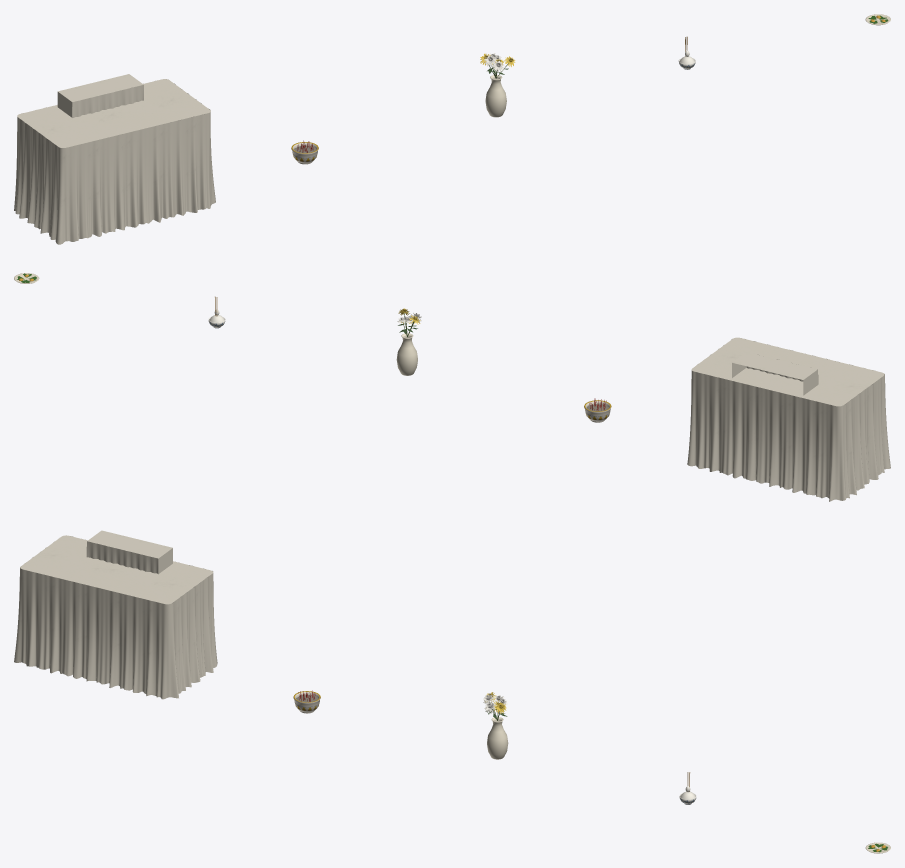
File: BanTho_HQ.glb
The picture shows the model from 3 angles, top to bottom: view 1: azimuth 30°, elevation 25°; view 2: azimuth 150°, elevation 25°; view 3: azimuth 330°, elevation 25°; orthographic projection.
Parts seen in each view (by area): view 1: BanThoVong_HQ, LoHoaCuc_HQ, BatHuong_HQ; view 2: BanThoVong_HQ, LoHoaCuc_HQ, BatHuong_HQ; view 3: BanThoVong_HQ, LoHoaCuc_HQ.
Boxes of the visible parts, <box> form: BanThoVong_HQ: <box>14,74,215,244</box>; LoHoaCuc_HQ: <box>480,53,515,117</box>; BatHuong_HQ: <box>291,140,318,164</box>; BanThoVong_HQ: <box>687,337,890,501</box>; LoHoaCuc_HQ: <box>396,308,421,375</box>; BatHuong_HQ: <box>584,398,611,422</box>; BanThoVong_HQ: <box>14,530,217,699</box>; LoHoaCuc_HQ: <box>483,692,508,759</box>.
Size of the model in its own units: 7.18 by 0.882 by 0.7766.
Materials: 16 (3 with a texture image).
